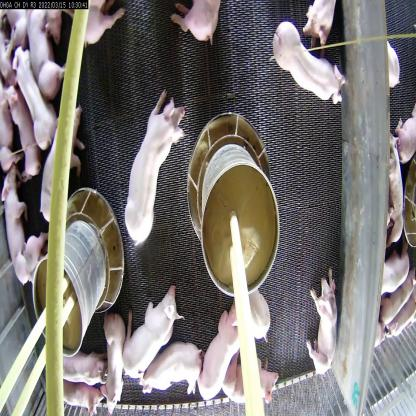Pig: (129, 89, 181, 238), (120, 278, 181, 383), (10, 31, 61, 153), (276, 21, 344, 111), (36, 105, 88, 220), (220, 333, 285, 412), (0, 154, 39, 282), (146, 335, 210, 412), (198, 293, 238, 400), (306, 264, 335, 379), (104, 311, 138, 407), (57, 335, 106, 396)
